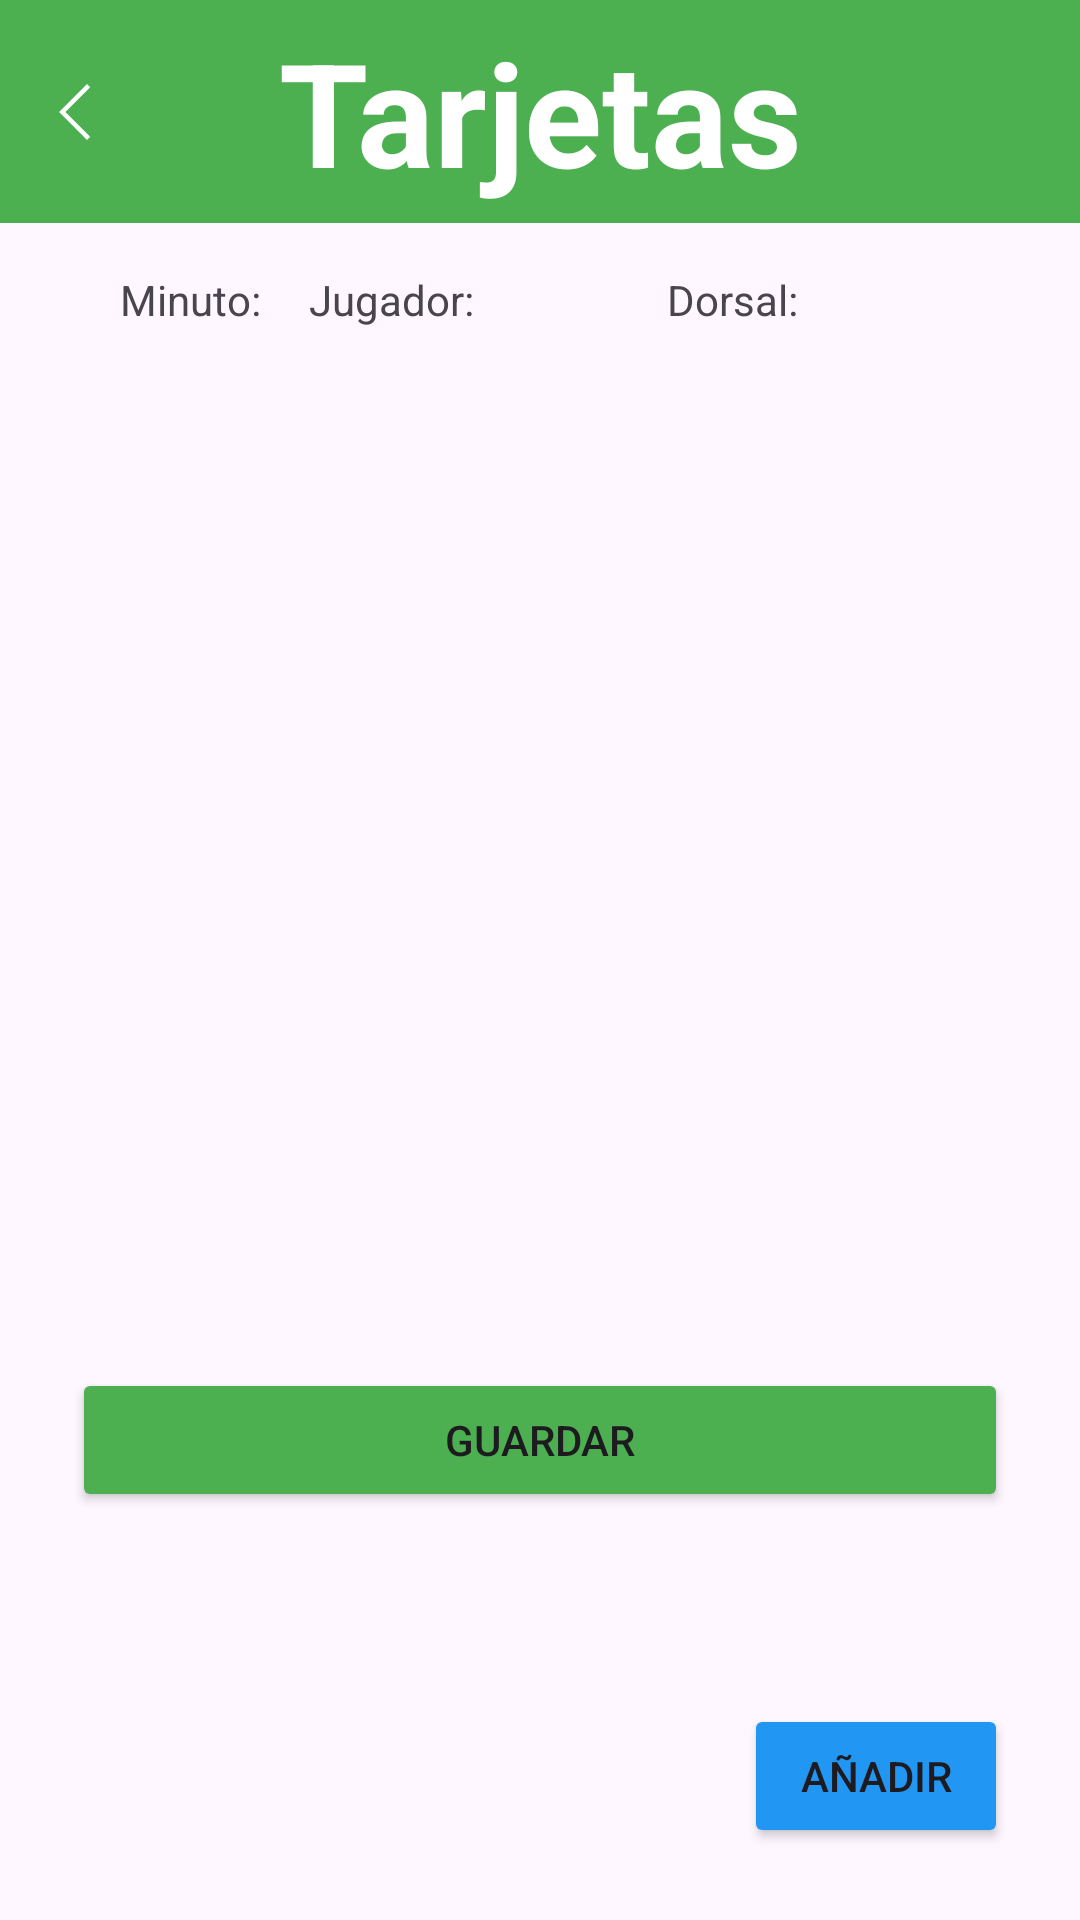

Icons on this 1080x1920 Android screen, each with the point to tap as point (x, y):
arrow back: point (74, 112)
